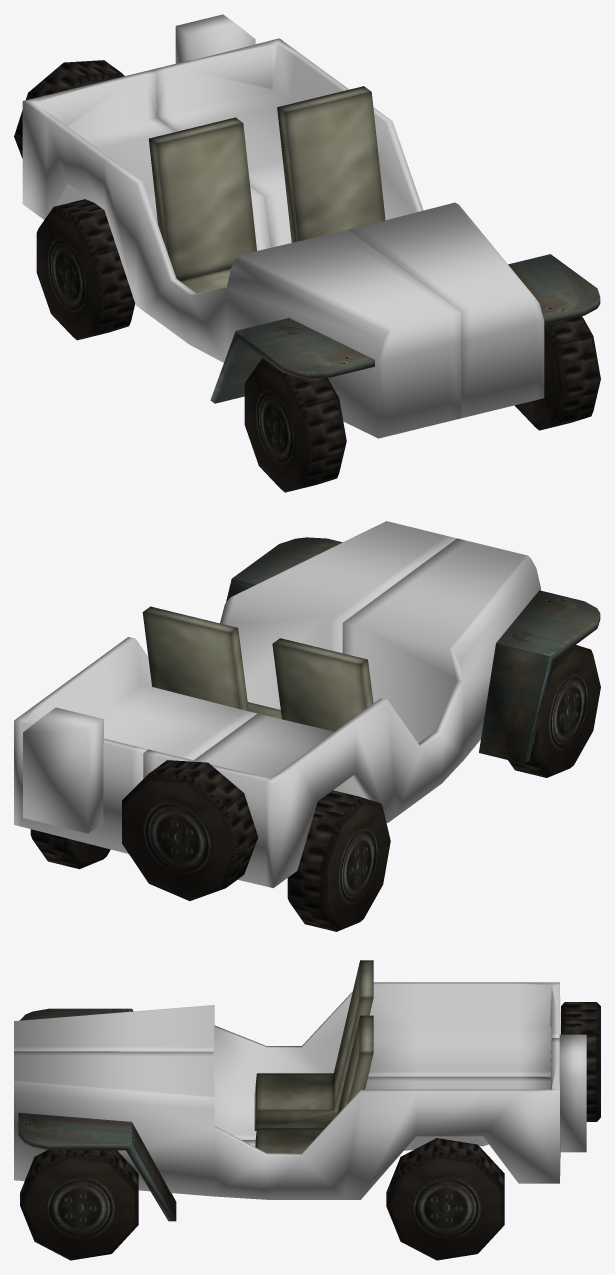
The model's file is jeep.fbx.
3 renders of one model, top to bottom at view 1: azimuth 30°, elevation 25°; view 2: azimuth 150°, elevation 25°; view 3: azimuth 270°, elevation 25°, orthographic. The views are drawn at different scales.
Parts seen in each view (by area): view 1: jeep; view 2: jeep; view 3: jeep.
Part boxes in pixels (x1,y1,x2,y2): jeep: (14, 14, 600, 492); jeep: (14, 521, 600, 931); jeep: (14, 960, 600, 1260).
Size of the model in its own units: 2.16 by 1.44 by 3.96.
